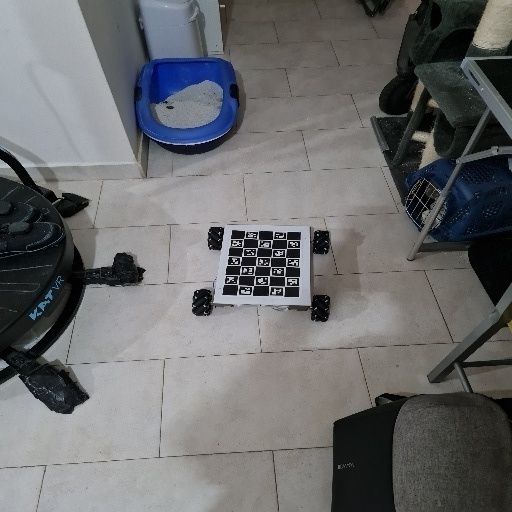Omniwheel: (190, 224, 335, 326)
